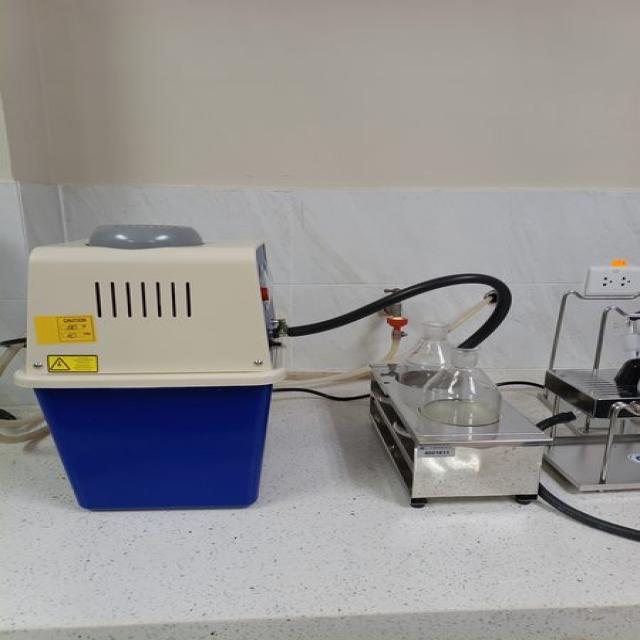Bomba de Vacio por Recirculacion de Agua: (14, 226, 548, 508)
